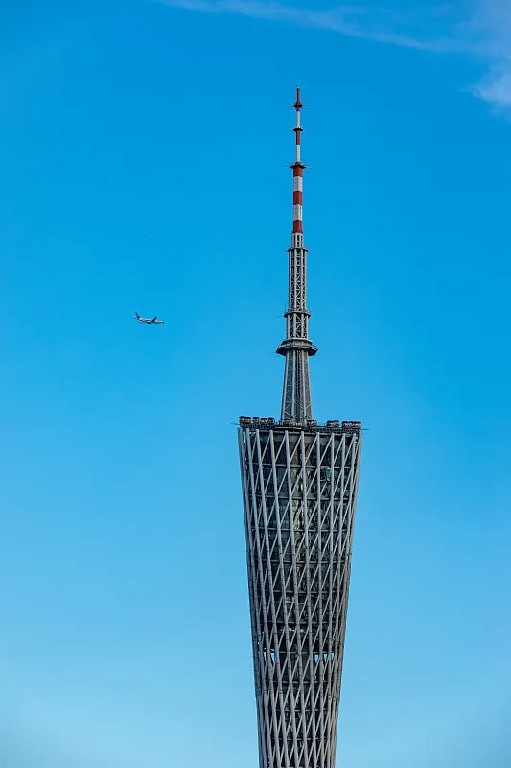Canton: (239, 85, 364, 768)
